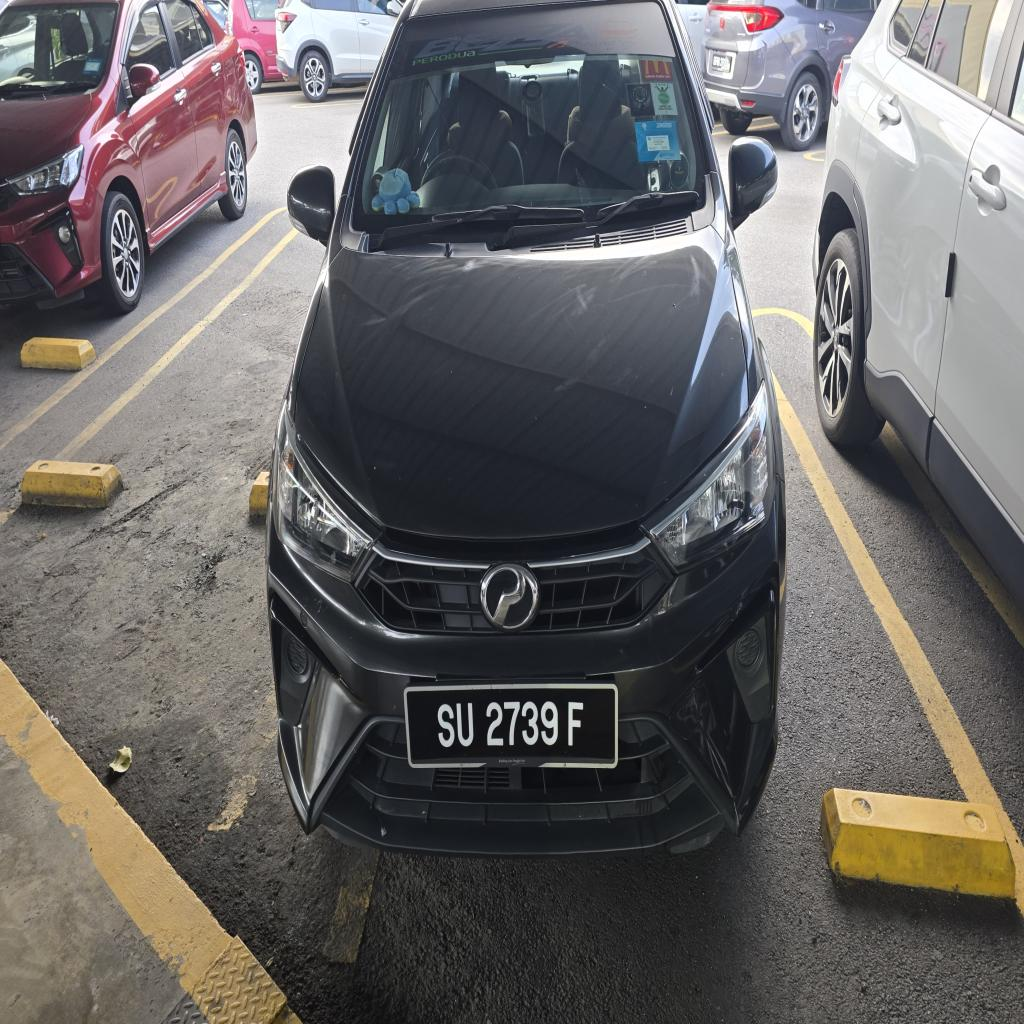car: (267, 0, 785, 855)
car plate: (405, 683, 617, 767)
